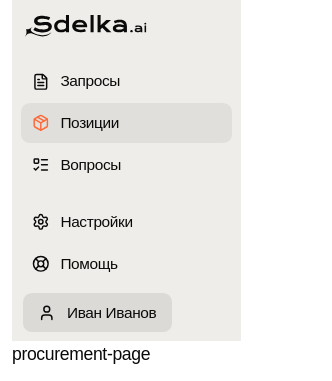
Scenario: AppRail navigation › clicking an item navigates
Click the button "Вопросы": (126, 165) [21,145,232,185]
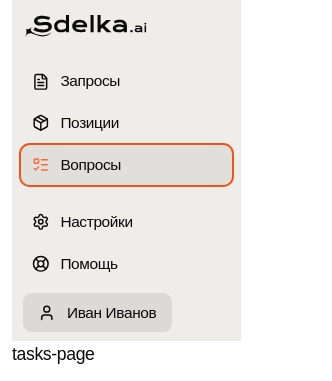
Check: the text "tasks-page" is shown, box [12,344,94,364]
